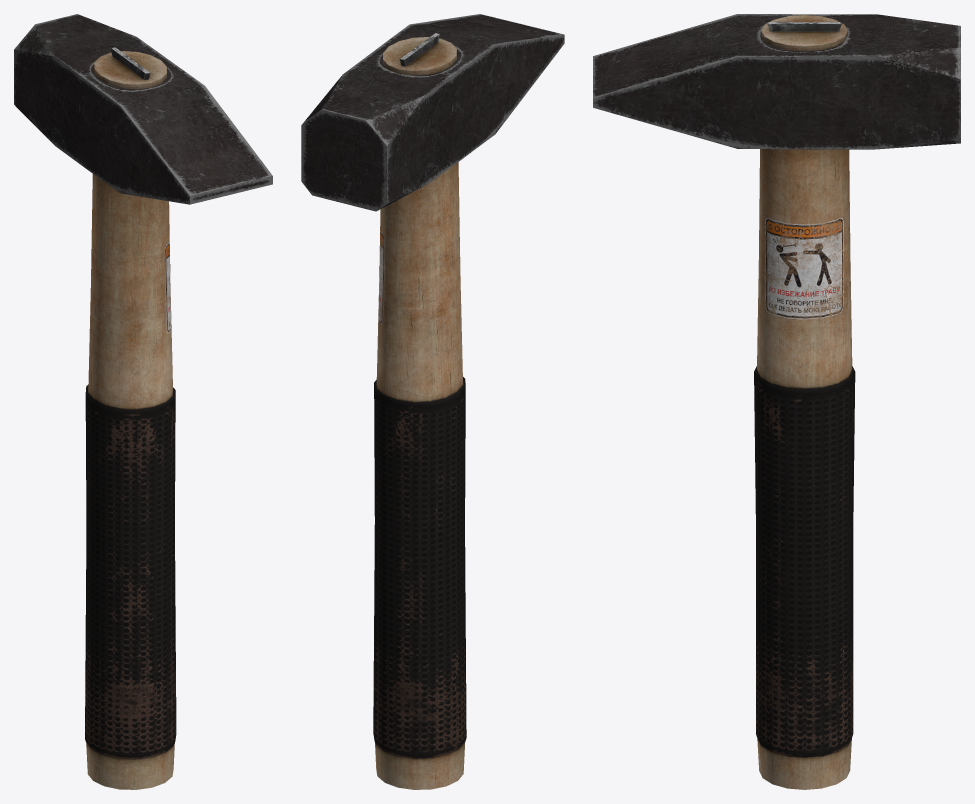
The model's file is hammer.glb.
3 views of the same model, side by side, from view 1: azimuth 30°, elevation 25°; view 2: azimuth 150°, elevation 25°; view 3: azimuth 270°, elevation 25° (orthographic). The views are drawn at different scales.
Visible parts, largest first — view 1: Handle_low, Head_low; view 2: Handle_low, Head_low; view 3: Handle_low, Head_low, Wedge_low.
Boxes of the visible parts, x1,y1,x2,y2 form: Handle_low: (85, 51, 176, 789); Head_low: (14, 14, 272, 204); Handle_low: (373, 37, 466, 789); Head_low: (301, 14, 564, 211); Handle_low: (754, 15, 855, 789); Head_low: (593, 14, 960, 149); Wedge_low: (767, 22, 841, 31).
Bounding box in the file's own units: 1.08 × 8.72 × 3.89.
Materials: 1 (1 with a texture image).
